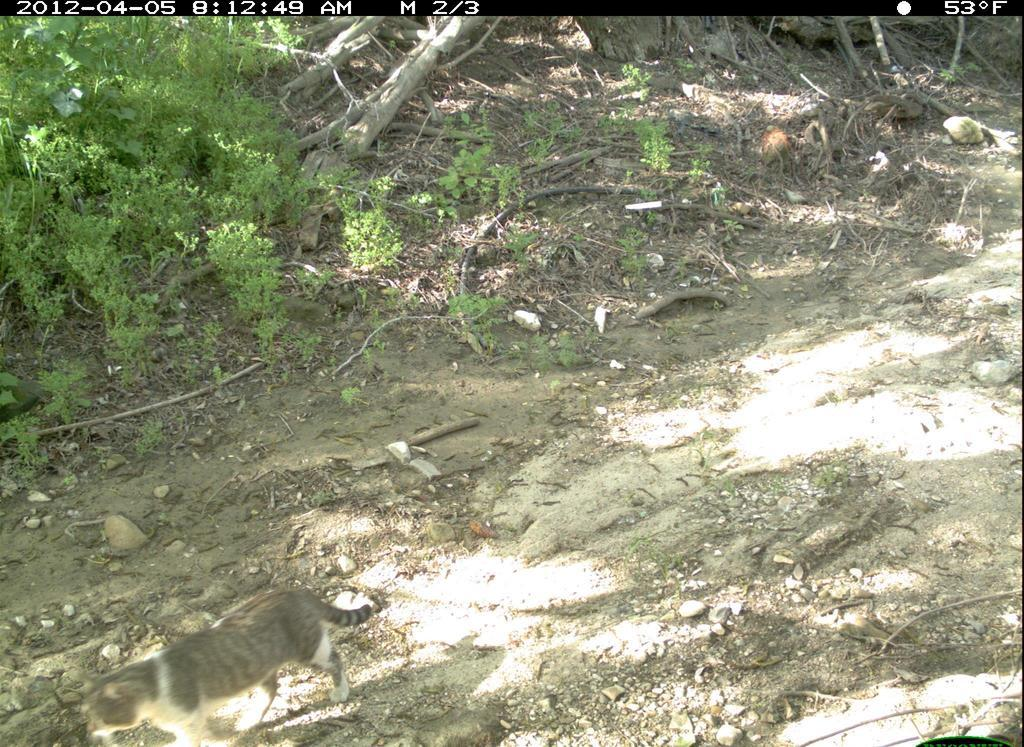cat: (67, 580, 395, 747)
